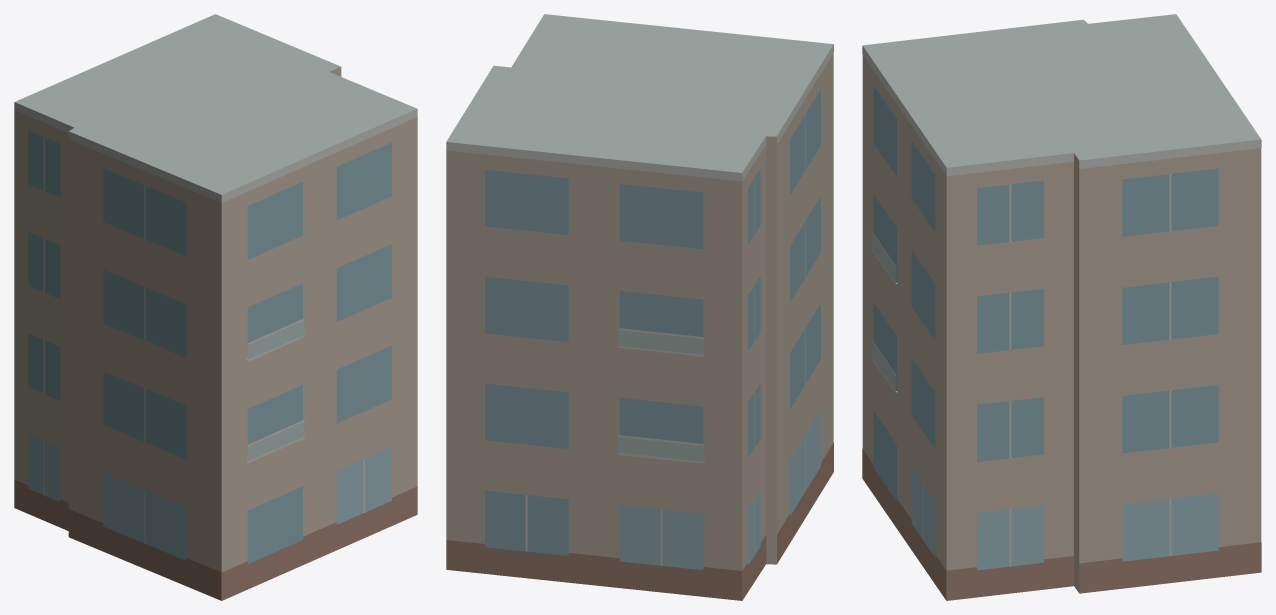
The model's file is survey-upis-33010947.glb.
The picture shows the model from 3 angles, left to right: view 1: azimuth 30°, elevation 25°; view 2: azimuth 150°, elevation 25°; view 3: azimuth 270°, elevation 25°; orthographic projection. The views are drawn at different scales.
Visible parts, largest first — view 1: survey-upis-33010947.tmp; view 2: survey-upis-33010947.tmp; view 3: survey-upis-33010947.tmp.
Part boxes in pixels (left/top/right/bottom): survey-upis-33010947.tmp: left=14, top=14, right=417, bottom=600; survey-upis-33010947.tmp: left=446, top=14, right=833, bottom=600; survey-upis-33010947.tmp: left=862, top=14, right=1261, bottom=600.
Bounding box in the file's own units: 9.36 × 12.27 × 10.26.
